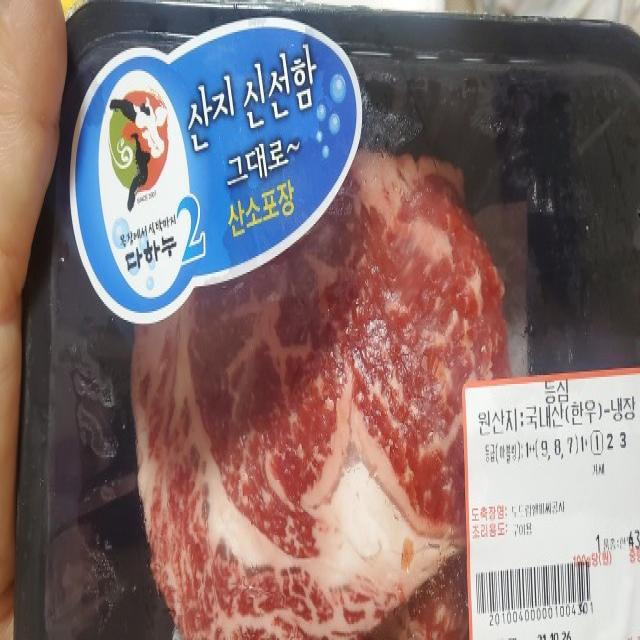pork: (100, 54, 531, 640)
